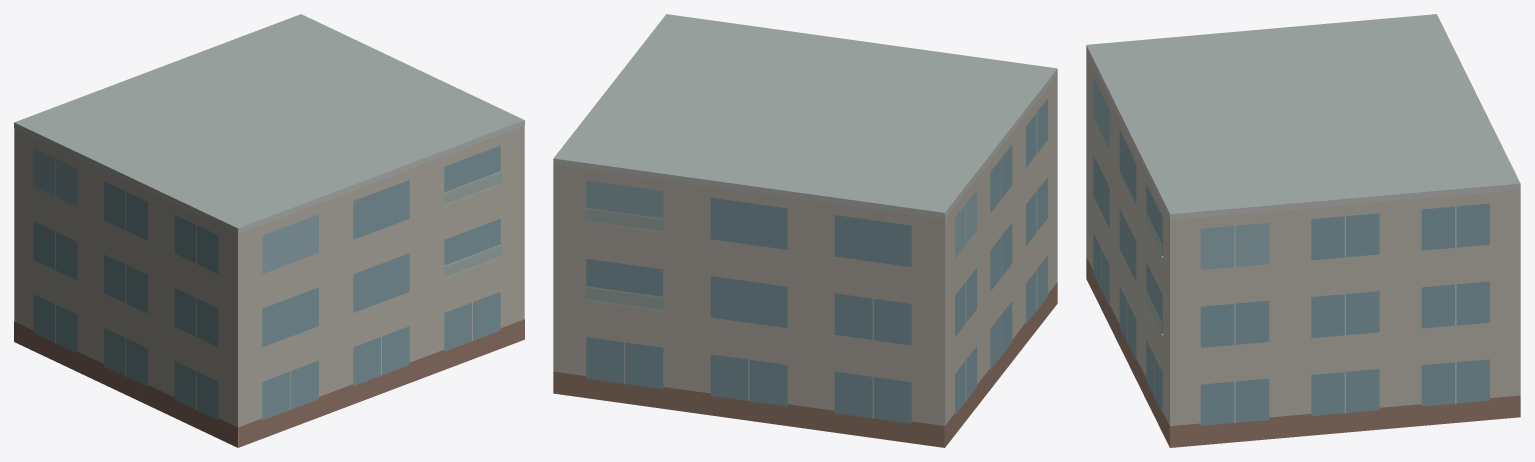
The model's file is survey-upis-32709163.glb.
3 renders of one model, left to right at view 1: azimuth 30°, elevation 25°; view 2: azimuth 150°, elevation 25°; view 3: azimuth 270°, elevation 25°, orthographic. The views are drawn at different scales.
Visible parts, largest first — view 1: survey-upis-32709163.tmp; view 2: survey-upis-32709163.tmp; view 3: survey-upis-32709163.tmp.
Part boxes in pixels (x1,y1,x2,y2): survey-upis-32709163.tmp: [14, 14, 524, 447]; survey-upis-32709163.tmp: [553, 14, 1057, 447]; survey-upis-32709163.tmp: [1086, 14, 1520, 447].
Size of the model in its own units: 16.83 by 9.15 by 15.43.
